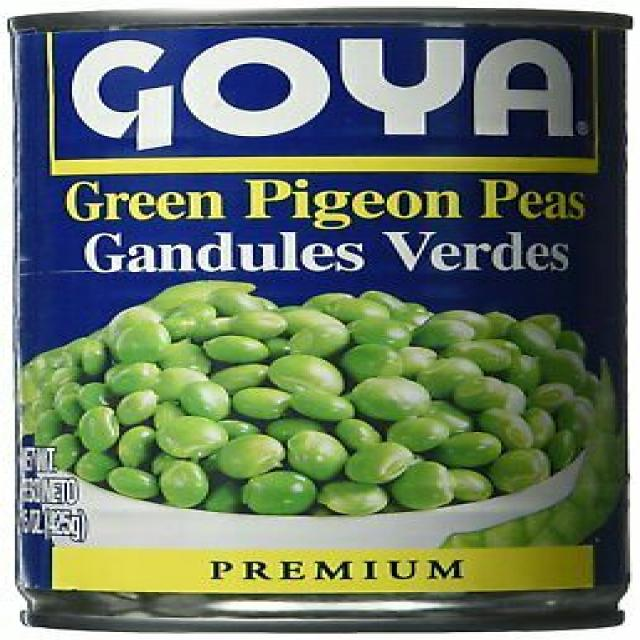pea: (24, 292, 596, 510)
